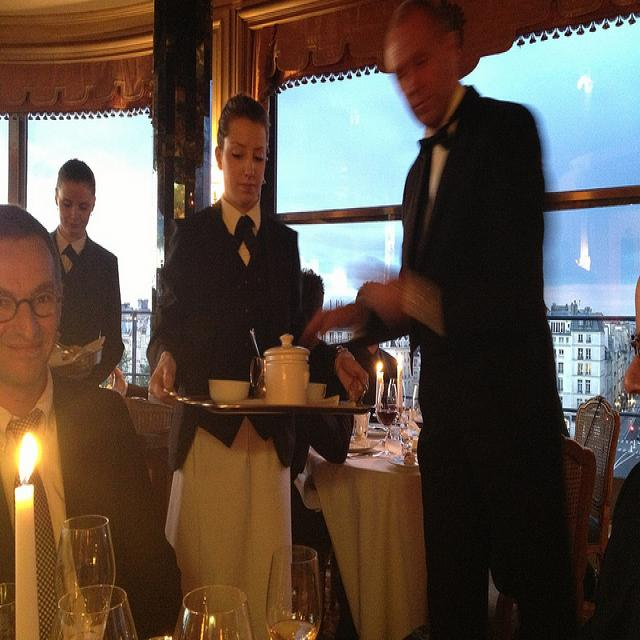chair: (496, 435, 595, 628), (575, 396, 621, 571), (125, 379, 180, 472)
dining table: (309, 455, 430, 640), (308, 417, 421, 473)
